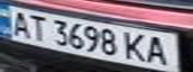3: (48, 18, 72, 47)
6: (66, 20, 84, 51)
8: (100, 26, 121, 57)
9: (81, 24, 103, 54)
A: (142, 34, 175, 68), (6, 8, 33, 38)
K: (121, 30, 151, 63)
T: (24, 12, 51, 42)
